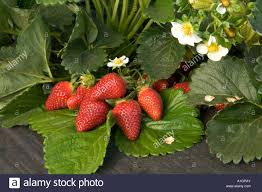ripe: (113, 93, 144, 142), (74, 99, 109, 134), (44, 76, 77, 112), (136, 85, 166, 122), (92, 72, 127, 102), (65, 80, 92, 114)
